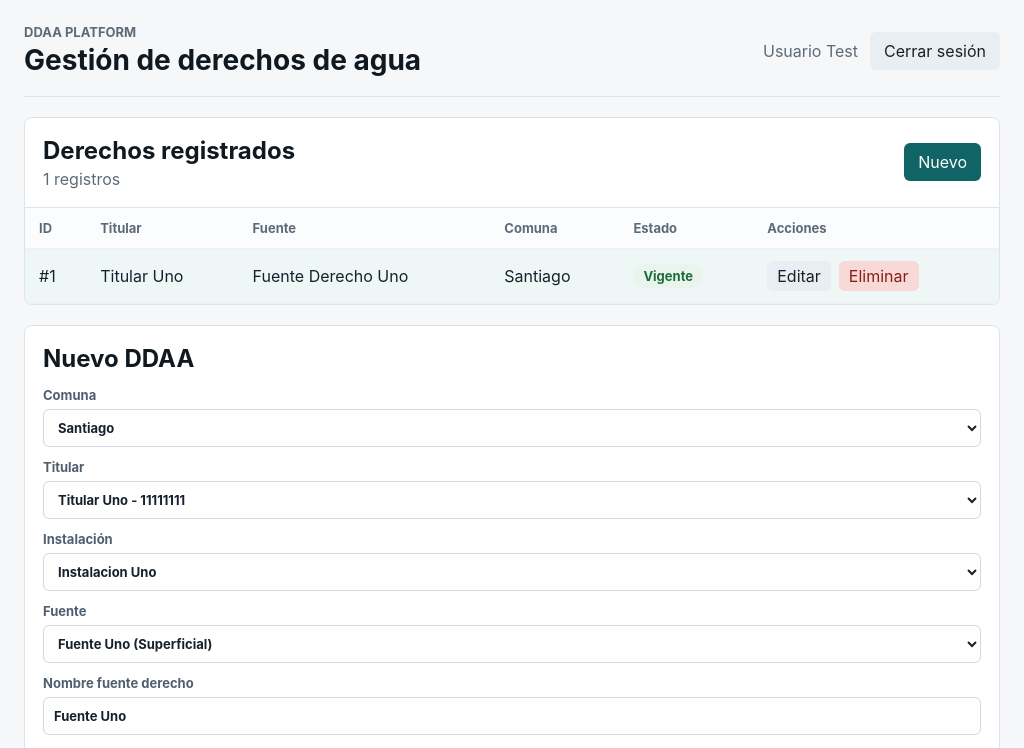
Test: HomePage › should edit selected DDAA and send updated payload
Check: the text "1 registros" is shown, box [43,169,120,189]
Note: se entra a modo edición.
Click the button "Editar" at (799, 276), box [767,261,831,291]
(page scrolled)
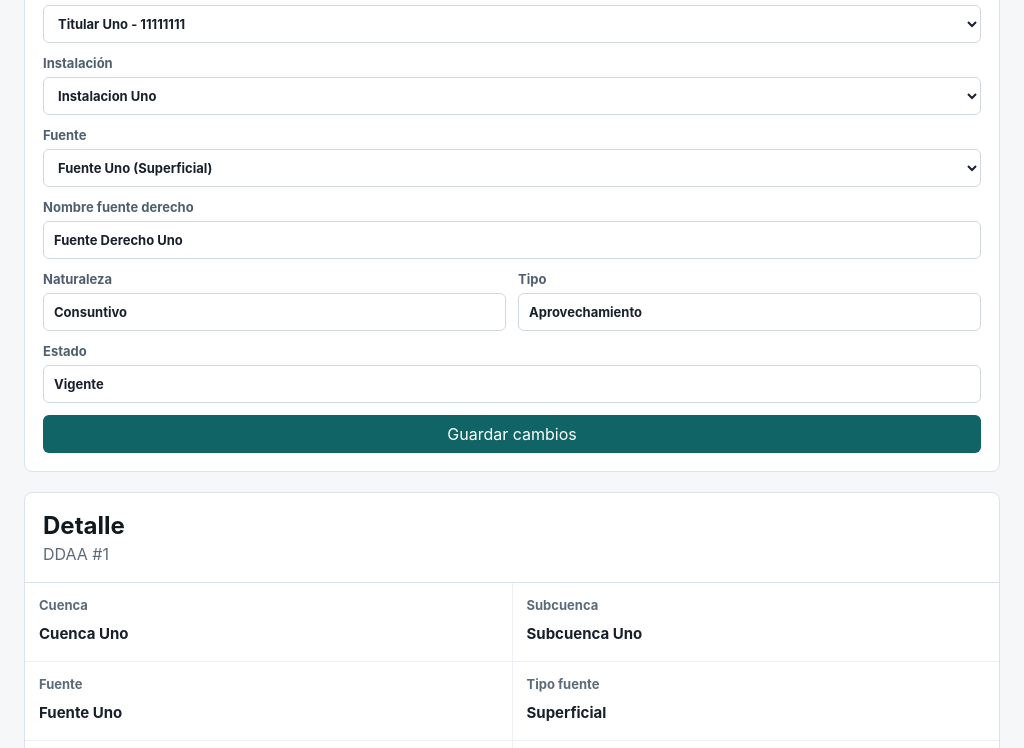
Replace the text in the field labelled "Estado" with "Inactivo" at (512, 384), box [43,365,981,403]
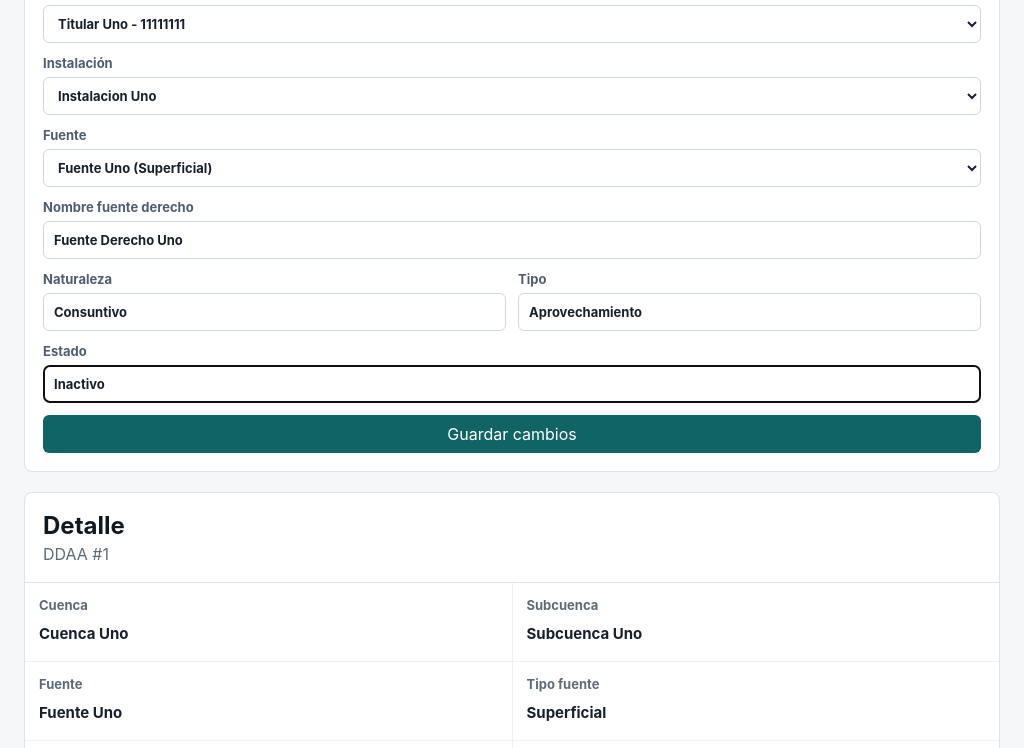
Click the button "Guardar cambios" at (512, 434), box [43,415,981,453]
(page scrolled)
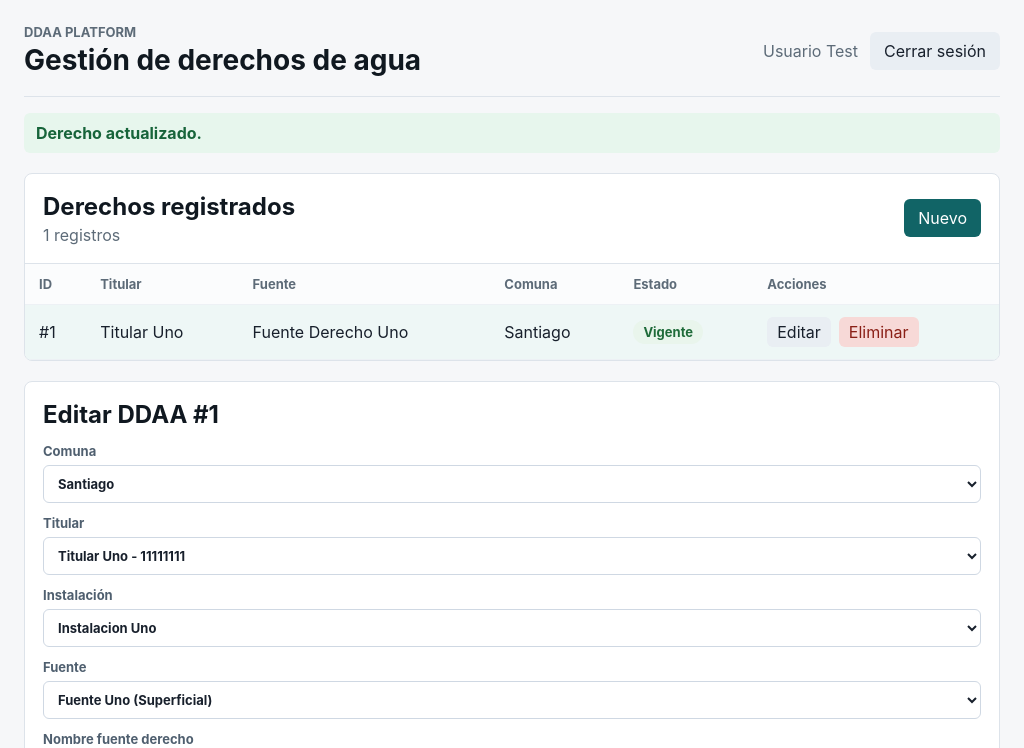
Check: the text "Derecho actualizado." is shown, box [24,113,1000,153]
